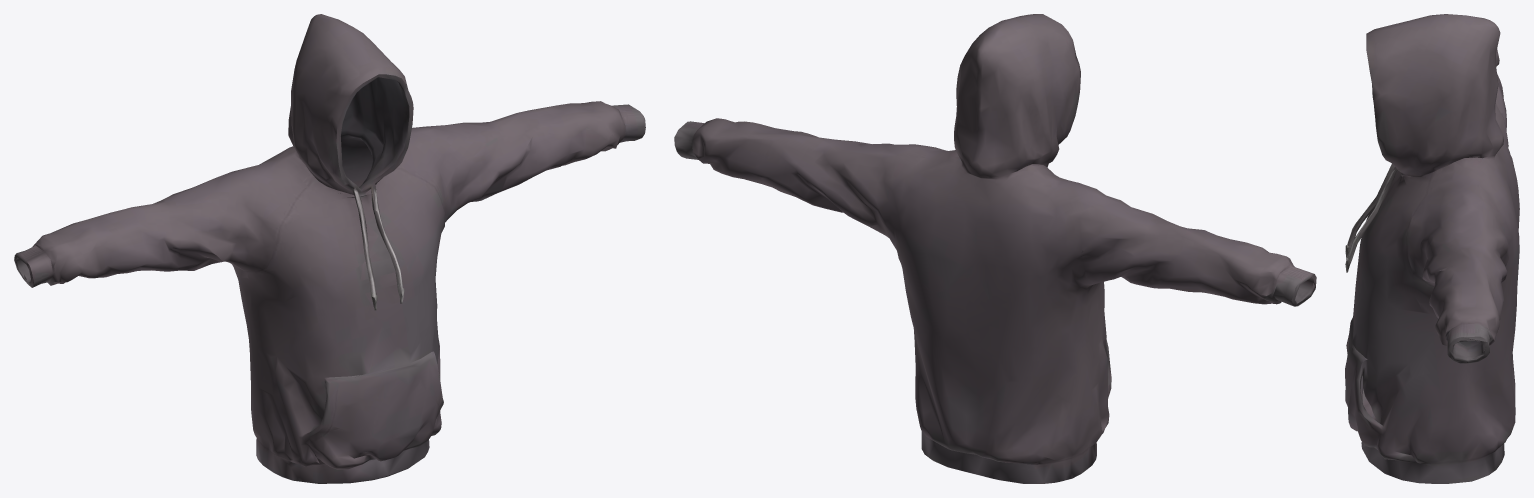
File: top_hoodie_m_idle.glb
3 renders of one model, left to right at view 1: azimuth 30°, elevation 25°; view 2: azimuth 150°, elevation 25°; view 3: azimuth 270°, elevation 25°, orthographic.
Visible parts, largest first — view 1: tripo_node_03c3d333-1ae7-44c7-824e-d5a257beec2a; view 2: tripo_node_03c3d333-1ae7-44c7-824e-d5a257beec2a; view 3: tripo_node_03c3d333-1ae7-44c7-824e-d5a257beec2a.
Part boxes in pixels (x1,y1,x2,y2): tripo_node_03c3d333-1ae7-44c7-824e-d5a257beec2a: (14,14,645,483); tripo_node_03c3d333-1ae7-44c7-824e-d5a257beec2a: (674,14,1316,483); tripo_node_03c3d333-1ae7-44c7-824e-d5a257beec2a: (1345,14,1519,483).
Size of the model in its own units: 1.6 by 1.06 by 0.3869.
Materials: 1 (1 with a texture image).
